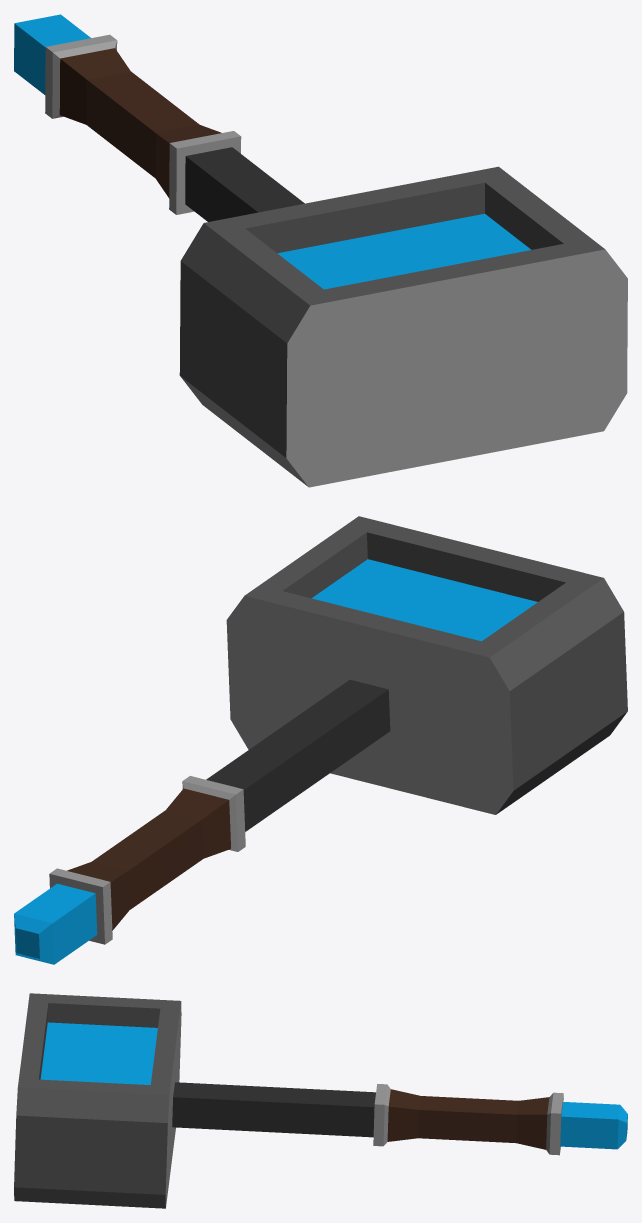
Rendered from Martelo_Clara.gltf.
The picture shows the model from 3 angles, top to bottom: view 1: azimuth 30°, elevation 25°; view 2: azimuth 150°, elevation 25°; view 3: azimuth 270°, elevation 25°; orthographic projection. The views are drawn at different scales.
Parts seen in each view (by area): view 1: Martelo Clara; view 2: Martelo Clara; view 3: Martelo Clara.
Part boxes in pixels (x1,y1,x2,y2): Martelo Clara: (14,14,627,487); Martelo Clara: (14,516,627,964); Martelo Clara: (14,993,627,1208).
Size of the model in its own units: 0.2642 by 0.1409 by 0.6351.
1 material, 1 textured.
